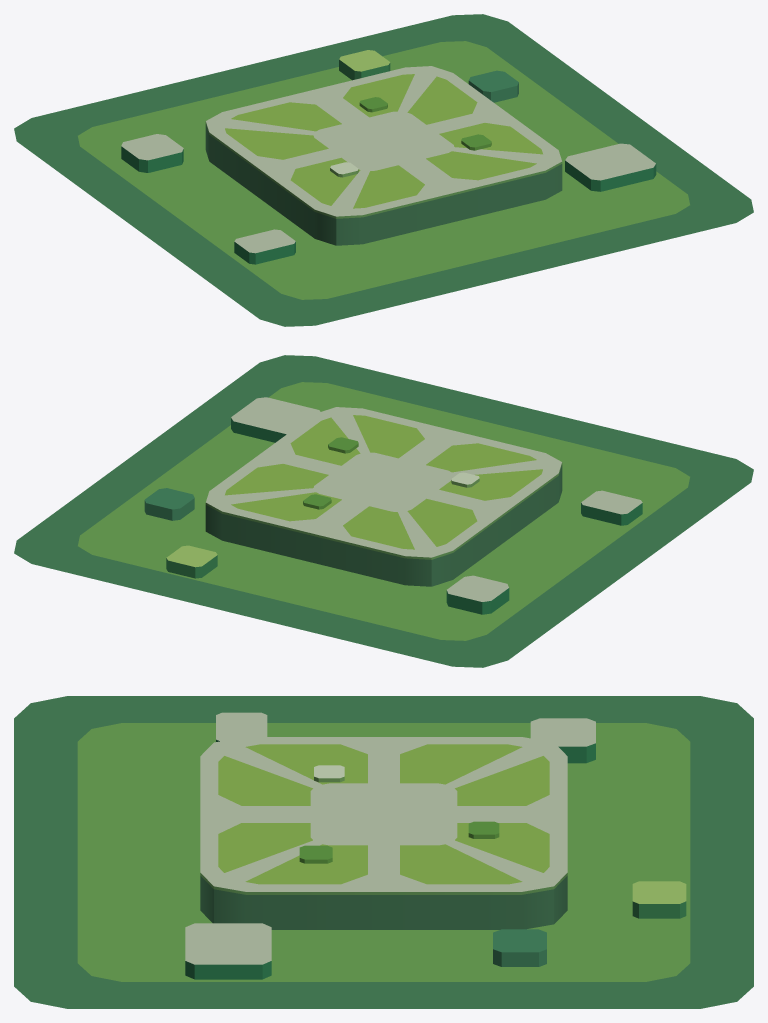
File: BC_cookrecipe_S_16.fbx
The picture shows the model from 3 angles, top to bottom: view 1: azimuth 30°, elevation 25°; view 2: azimuth 150°, elevation 25°; view 3: azimuth 270°, elevation 25°; orthographic projection. The views are drawn at different scales.
Visible parts, largest first — view 1: base, maple_leaf, boko, boko4, boko2, boko5, boko3; view 2: base, maple_leaf, boko, boko4, boko2, boko5, boko3; view 3: base, maple_leaf, boko, boko4, boko5, boko3, boko2.
Part boxes in pixels (<box>): base: <box>14,14,753,326</box>; maple_leaf: <box>205,66,562,245</box>; boko: <box>565,143,656,191</box>; boko4: <box>121,134,183,172</box>; boko2: <box>234,229,295,264</box>; boko5: <box>339,50,390,80</box>; boko3: <box>468,70,518,102</box>; base: <box>14,355,753,667</box>; maple_leaf: <box>205,407,562,586</box>; boko: <box>231,397,320,442</box>; boko4: <box>446,575,509,614</box>; boko2: <box>581,490,642,525</box>; boko5: <box>166,545,217,578</box>; boko3: <box>144,488,194,520</box>; base: <box>14,696,753,1008</box>; maple_leaf: <box>200,737,567,929</box>; boko: <box>185,923,271,979</box>; boko4: <box>530,718,595,763</box>; boko5: <box>632,881,686,918</box>; boko3: <box>493,929,546,966</box>; boko2: <box>216,712,267,741</box>.
Bounding box in the file's own units: 3.5 × 0.2202 × 3.5.
